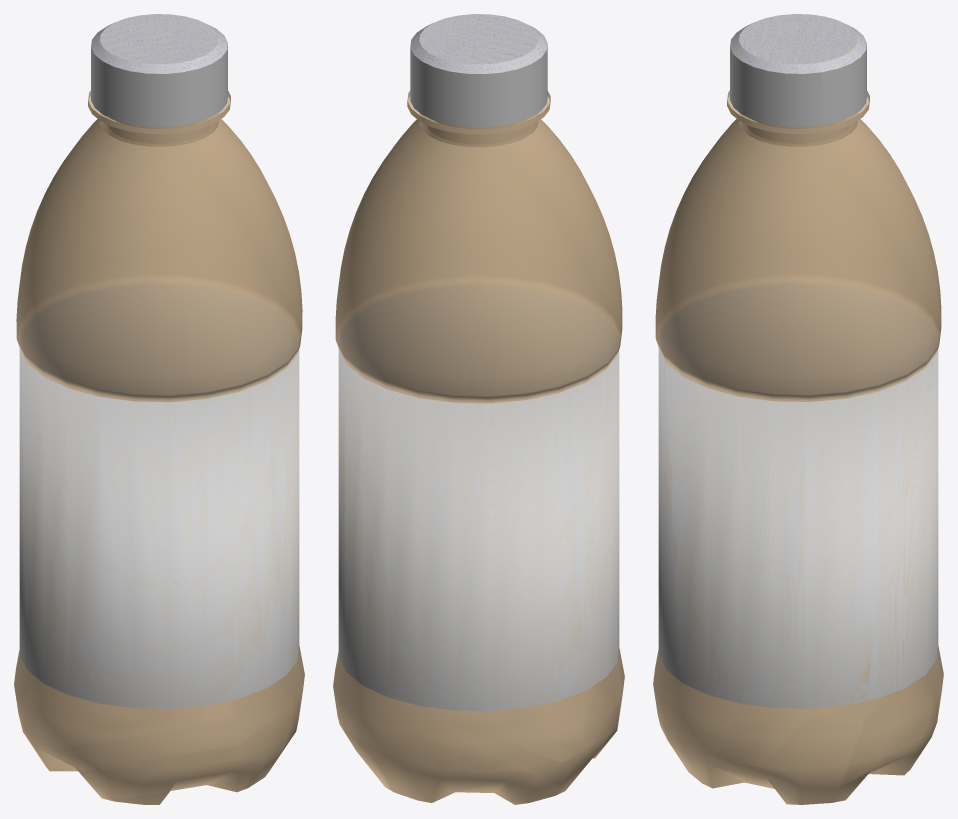
The picture shows the model from 3 angles, left to right: view 1: azimuth 30°, elevation 25°; view 2: azimuth 150°, elevation 25°; view 3: azimuth 270°, elevation 25°; orthographic projection.
Visible parts, largest first — view 1: mesh2_mesh2-geometry; view 2: mesh2_mesh2-geometry; view 3: mesh2_mesh2-geometry.
Boxes of the visible parts, x1,y1,x2,y2 form: mesh2_mesh2-geometry: (14,14,304,804); mesh2_mesh2-geometry: (333,14,624,804); mesh2_mesh2-geometry: (653,14,943,804).
Bounding box in the file's own units: 0.3263 × 0.8872 × 0.3263.
